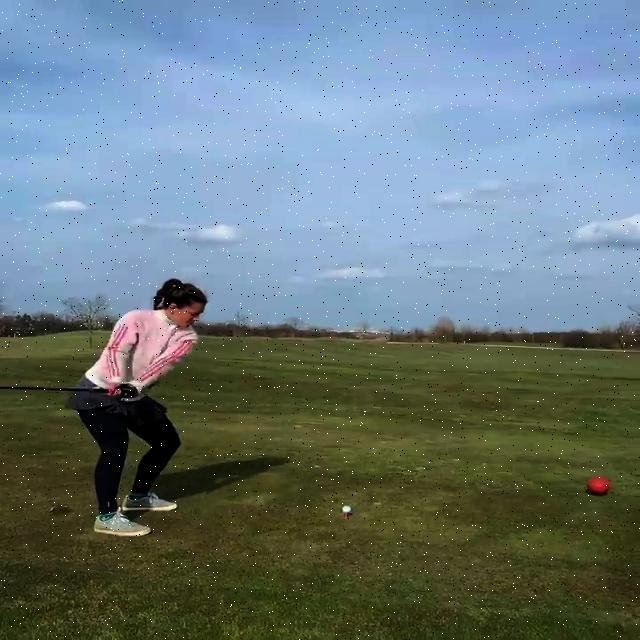golf ball: (342, 506, 351, 512)
golf club-handle: (0, 389, 110, 392)
